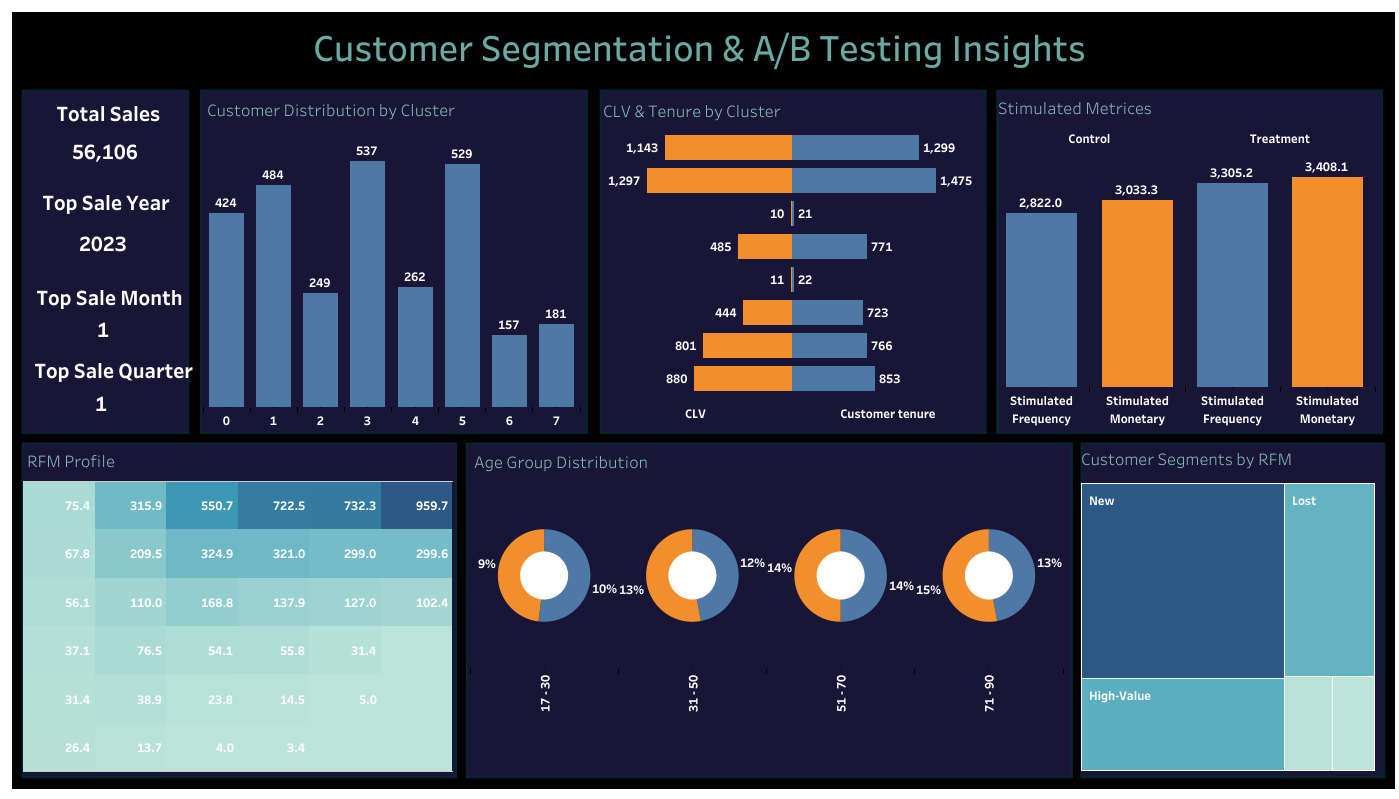

The dashboard page shown, as its layout file describes it:
{"tool":"tableau","page":{"name":"Dashboard","canvas":[1400,800],"ordinal":0},"visuals":[{"type":"image","param":"Image/template.png","box":[8,1,1391,800]},{"type":"text","box":[22,16.9,1355,58.7]},{"type":"worksheet","title":"TestingResults","mark":"Automatic","cols":["Group"],"box":[994,90,381,337]},{"type":"worksheet","title":"CustomerCount","mark":"Bar","rows":["Customer_id"],"cols":["Cluster"],"box":[203,92,377,337]},{"type":"worksheet","title":"CLV&Tenure","mark":"Automatic","rows":["Cluster"],"cols":["CLV","Customer_tenure"],"box":[599,93,385,336]},{"type":"text","box":[54,98,145,30]},{"type":"worksheet","title":"TotalSales","mark":"Automatic","box":[67,126,75,50]},{"type":"text","box":[40,187,156,30]},{"type":"worksheet","title":"TopSaleYear","mark":"Text","box":[73,229,62,35]},{"type":"text","box":[34,282,159,30]},{"type":"worksheet","title":"TopSaleMonth","mark":"Text","box":[63,308,81,43]},{"type":"text","box":[32,343,200,53]},{"type":"worksheet","title":"TopSaleQuarter","mark":"Automatic","box":[54,385,94,36]},{"type":"worksheet","title":"CustomerSegments","mark":"Automatic","box":[1077,441,301,333]},{"type":"worksheet","title":"RFM","mark":"Square","rows":["Recency (bin)"],"cols":["Frequency (bin)"],"box":[23,443,430,329]},{"type":"worksheet","title":"AgeDistribution","mark":"Pie","rows":["Calculation_1055552656125982","Calculation_1055552656125982"],"box":[470,444,593,330]}]}

Visuals, with their boxes in screenshot pixels (x1, y1, x2, y2), scaled from the page's 1400x800 canvas onto the 1399x799 screenshot:
image: rect(8, 1, 1398, 798)
text: rect(22, 17, 1376, 76)
"TestingResults" worksheet: rect(993, 90, 1374, 426)
"CustomerCount" worksheet (Bar marks): rect(203, 92, 580, 428)
"CLV&Tenure" worksheet: rect(599, 93, 983, 428)
text: rect(54, 98, 199, 128)
"TotalSales" worksheet: rect(67, 126, 142, 176)
text: rect(40, 187, 196, 217)
"TopSaleYear" worksheet (Text marks): rect(73, 229, 135, 264)
text: rect(34, 282, 193, 312)
"TopSaleMonth" worksheet (Text marks): rect(63, 308, 144, 351)
text: rect(32, 343, 232, 396)
"TopSaleQuarter" worksheet: rect(54, 385, 148, 420)
"CustomerSegments" worksheet: rect(1076, 440, 1377, 773)
"RFM" worksheet (Square marks): rect(23, 442, 453, 771)
"AgeDistribution" worksheet (Pie marks): rect(470, 443, 1062, 773)
